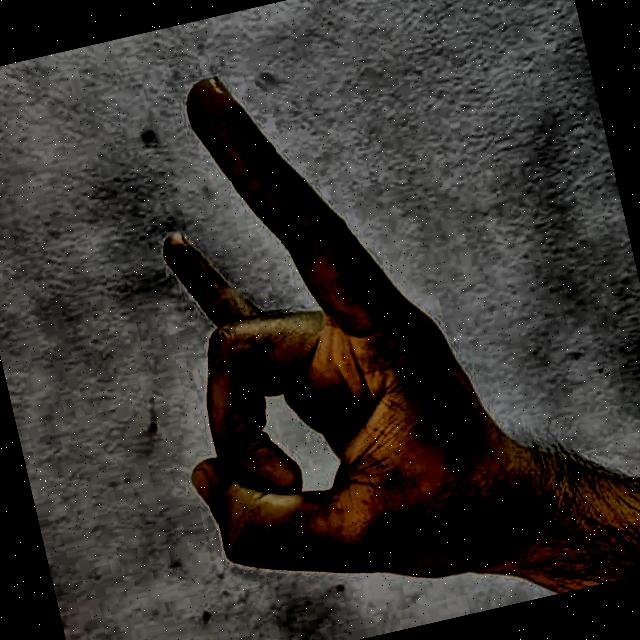Cha: (49, 0, 614, 640)
